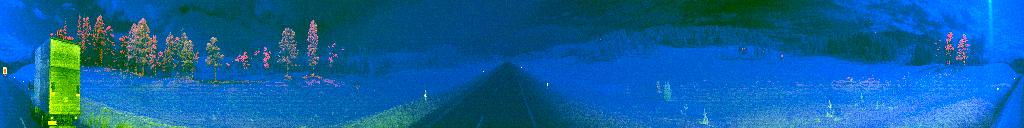pole: (424, 86, 428, 104)
